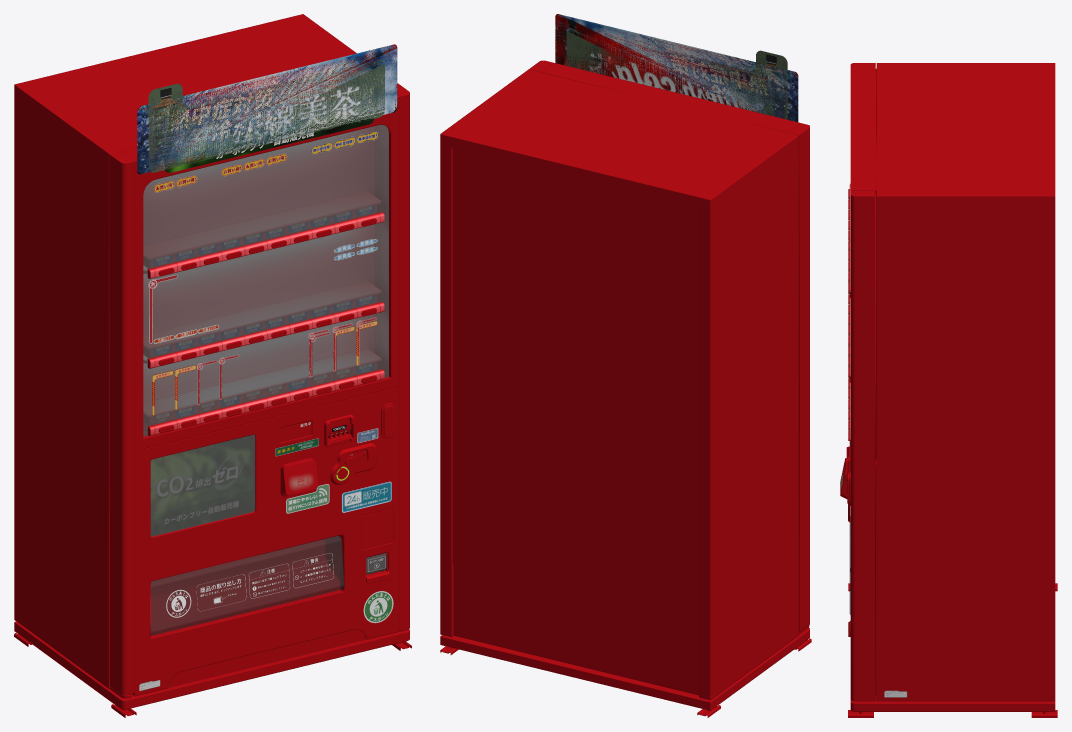
Rendered from VendingMachine.fbx.
3 renders of one model, left to right at view 1: azimuth 30°, elevation 25°; view 2: azimuth 150°, elevation 25°; view 3: azimuth 270°, elevation 25°, orthographic. The views are drawn at different scales.
Visible parts, largest first — view 1: VendingMachine_Outside, VendingMachine_Glass, VendingMachine_BackPanel, VendingMachine_Inner, VendingMachine_TopPop_2_Atlas, VendingMachine_TopPop_4_Atlas, VendingMachine_ExitDoor, VendingMachine_FrontPoster_1, VendingMachine_DetailProps, VendingMachine_TopPop_3_Atlas, VendingMachine_TopPop_1_Atlas, VendingMachine_PricePanel_02 (+7 smaller); view 2: VendingMachine_Outside, VendingMachine_DetailProps, VendingMachine_TopPop_2_Atlas, VendingMachine_TopPop_3_Atlas, VendingMachine_TopPop_4_Atlas; view 3: VendingMachine_Outside, VendingMachine_DetailProps, VendingMachine_Inner, VendingMachine_ButtonMesh.
Part boxes in pixels (x1,y1,x2,y2): VendingMachine_Outside: (14, 14, 409, 709); VendingMachine_Glass: (143, 124, 388, 536); VendingMachine_BackPanel: (144, 126, 374, 425); VendingMachine_Inner: (144, 125, 388, 436); VendingMachine_TopPop_2_Atlas: (137, 45, 397, 173); VendingMachine_TopPop_4_Atlas: (148, 59, 384, 172); VendingMachine_ExitDoor: (150, 535, 344, 635); VendingMachine_FrontPoster_1: (151, 436, 253, 535); VendingMachine_DetailProps: (14, 403, 411, 717); VendingMachine_TopPop_3_Atlas: (137, 44, 397, 174); VendingMachine_TopPop_1_Atlas: (165, 57, 373, 172); VendingMachine_PricePanel_02: (153, 206, 374, 422); VendingMachine_Outside: (440, 60, 809, 710); VendingMachine_DetailProps: (440, 565, 811, 717); VendingMachine_TopPop_2_Atlas: (555, 14, 798, 122); VendingMachine_TopPop_3_Atlas: (555, 14, 798, 121); VendingMachine_TopPop_4_Atlas: (566, 28, 787, 119); VendingMachine_Outside: (850, 63, 1055, 711); VendingMachine_DetailProps: (846, 446, 1057, 717); VendingMachine_Inner: (849, 183, 850, 446); VendingMachine_ButtonMesh: (848, 189, 849, 440).
Size of the model in its own units: 1 by 2.05 by 0.6909.
